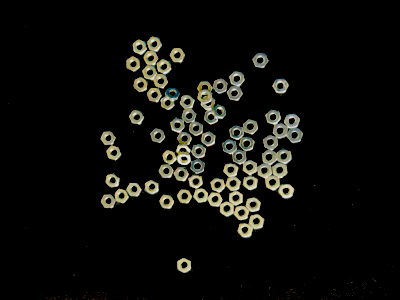nut: (272, 78, 289, 94), (265, 109, 282, 125), (284, 113, 301, 129), (262, 149, 278, 166), (147, 36, 163, 52), (147, 87, 163, 103), (107, 145, 123, 161), (273, 123, 289, 139), (243, 119, 259, 135), (239, 136, 255, 152), (265, 175, 281, 191), (279, 183, 295, 199), (210, 177, 226, 193), (249, 214, 265, 230), (133, 39, 148, 56), (287, 128, 304, 143), (243, 159, 258, 176), (238, 222, 253, 239), (177, 257, 192, 274), (170, 48, 186, 63), (134, 77, 149, 93), (253, 53, 269, 68), (213, 78, 228, 94), (227, 86, 243, 101), (197, 81, 213, 96), (200, 96, 216, 111), (212, 104, 227, 120), (181, 109, 197, 124), (151, 128, 166, 144), (101, 131, 117, 146), (189, 121, 204, 137), (201, 131, 216, 147), (263, 135, 279, 150), (277, 148, 292, 164), (230, 125, 245, 141), (177, 151, 193, 166), (191, 159, 206, 175), (174, 167, 190, 182), (177, 189, 193, 204), (272, 163, 288, 178), (243, 175, 258, 191), (246, 197, 261, 213), (220, 201, 235, 217), (234, 206, 250, 221), (144, 51, 159, 66), (127, 57, 142, 72), (157, 59, 172, 74), (143, 65, 158, 80), (154, 74, 169, 89), (230, 71, 245, 86), (204, 110, 219, 125), (180, 94, 195, 109), (130, 110, 145, 125), (106, 173, 121, 188), (171, 118, 186, 133), (162, 150, 177, 165), (159, 164, 174, 179), (115, 189, 130, 204), (160, 194, 175, 209), (189, 174, 204, 189), (194, 188, 209, 203), (224, 162, 239, 177), (226, 177, 241, 192), (208, 192, 223, 207), (198, 88, 212, 104), (165, 87, 181, 101), (223, 139, 237, 155), (177, 132, 193, 146), (233, 149, 247, 165), (258, 163, 272, 179), (161, 96, 175, 111), (101, 194, 116, 208), (127, 183, 142, 197), (145, 180, 159, 195), (229, 191, 243, 206), (192, 144, 206, 158), (176, 143, 191, 156)
